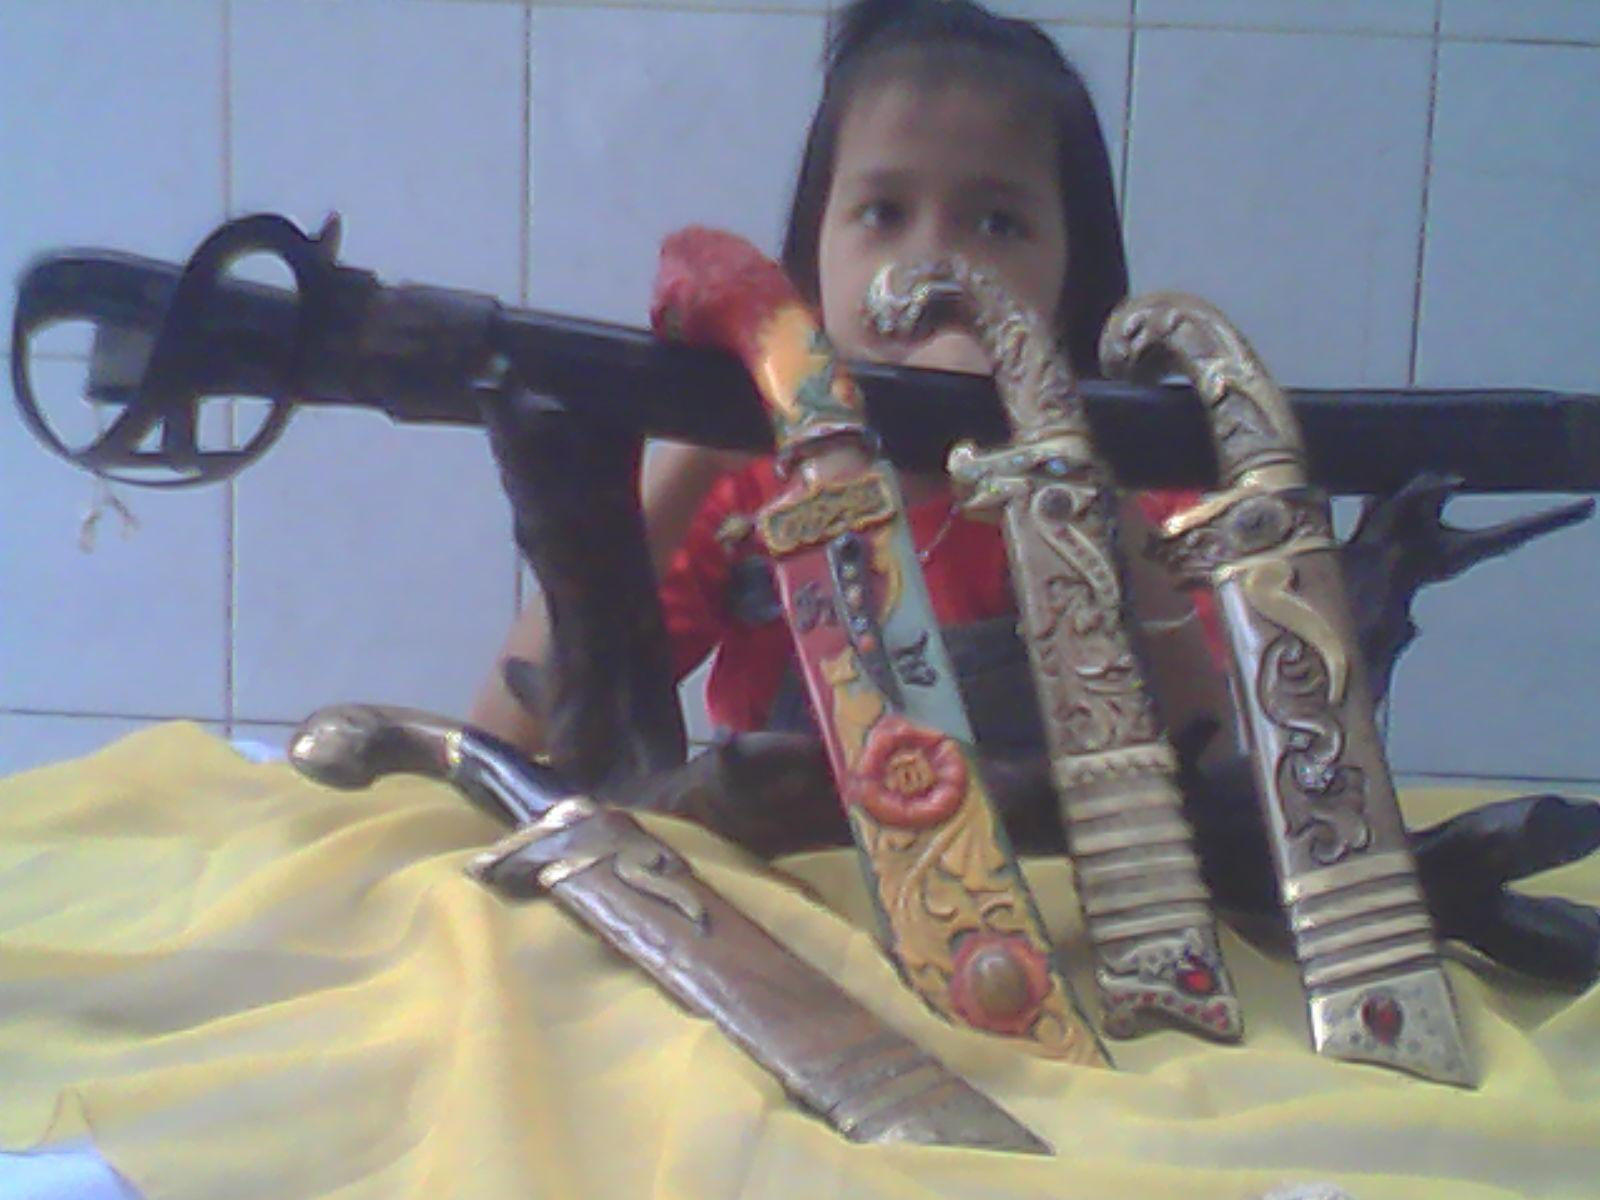espada: (3, 204, 1600, 523)
facao: (601, 208, 1070, 1098), (224, 707, 1052, 1199), (1124, 261, 1600, 1105), (842, 198, 1269, 1053)
